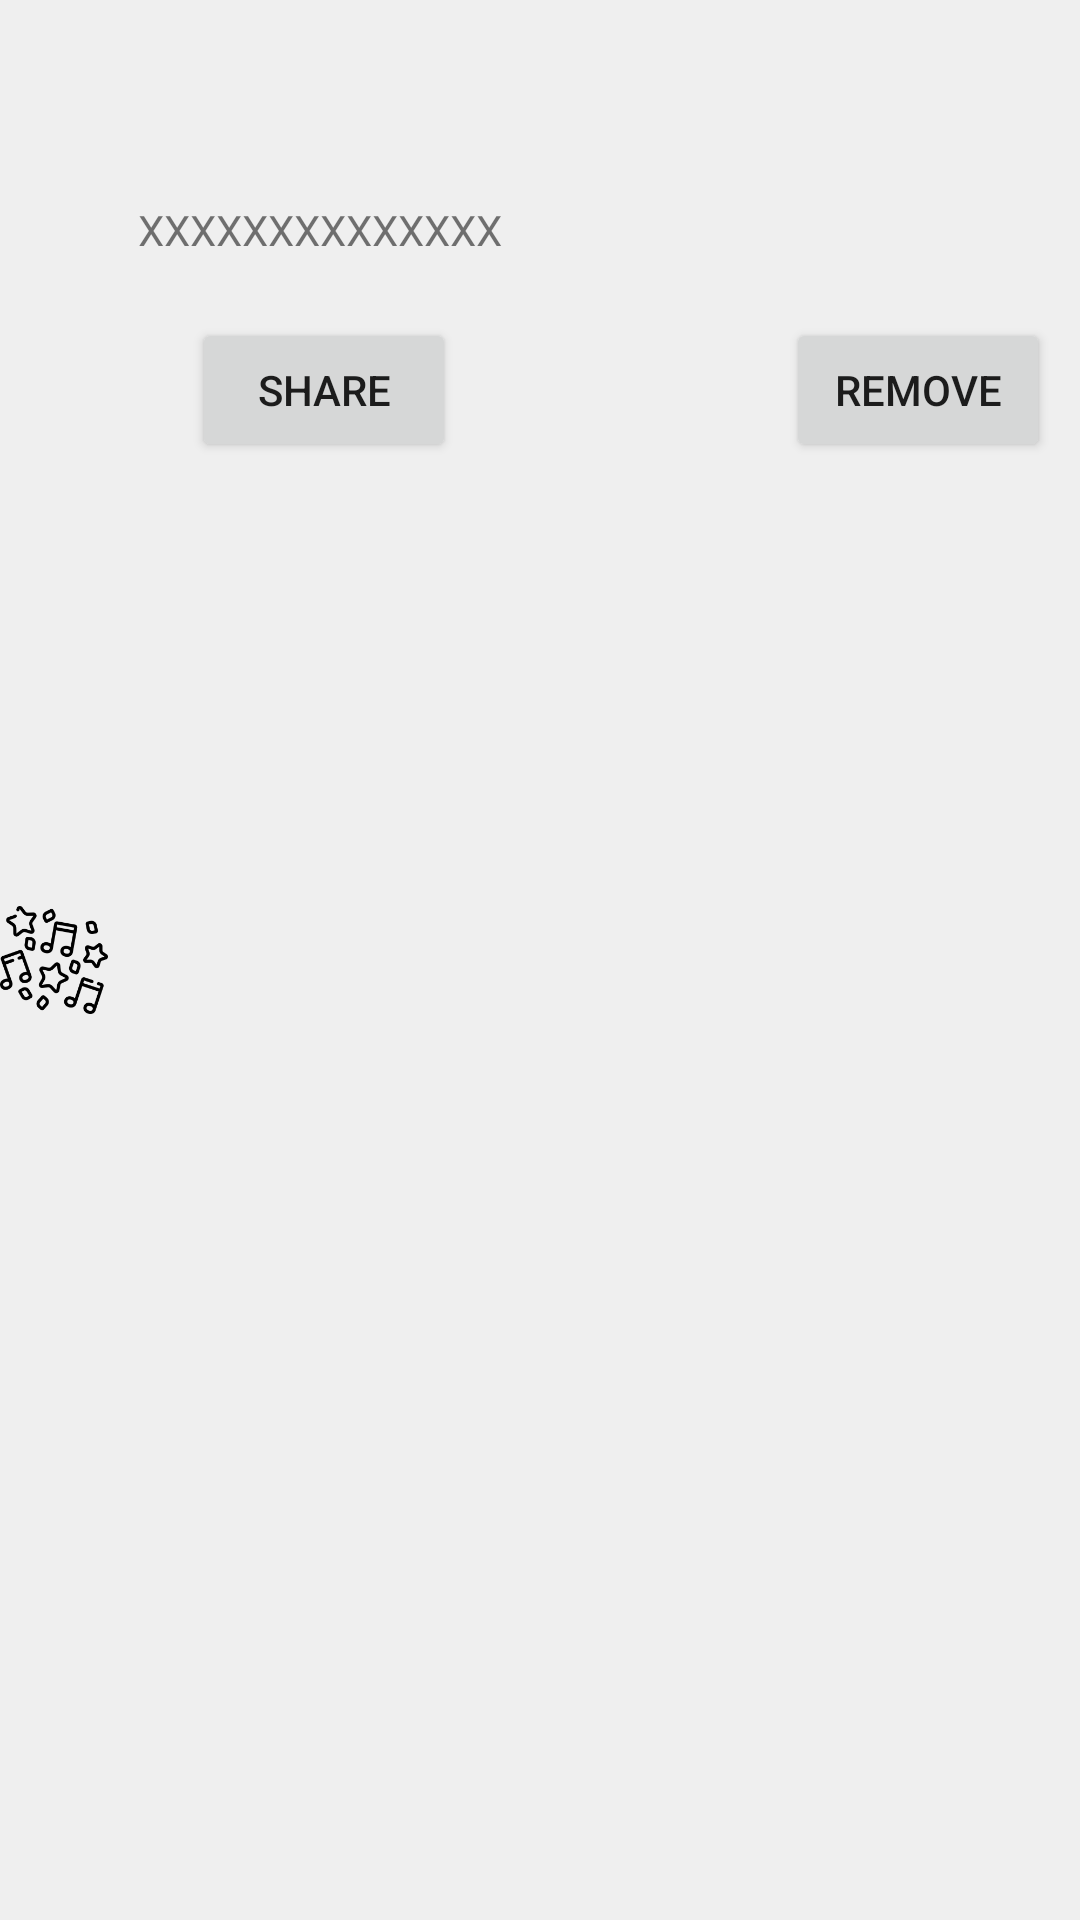

Icon bounding boxes for this 1080*1920 phone screenshot, format box=[x1, y1, x2, y2]:
music: box=[0, 906, 108, 1014]
